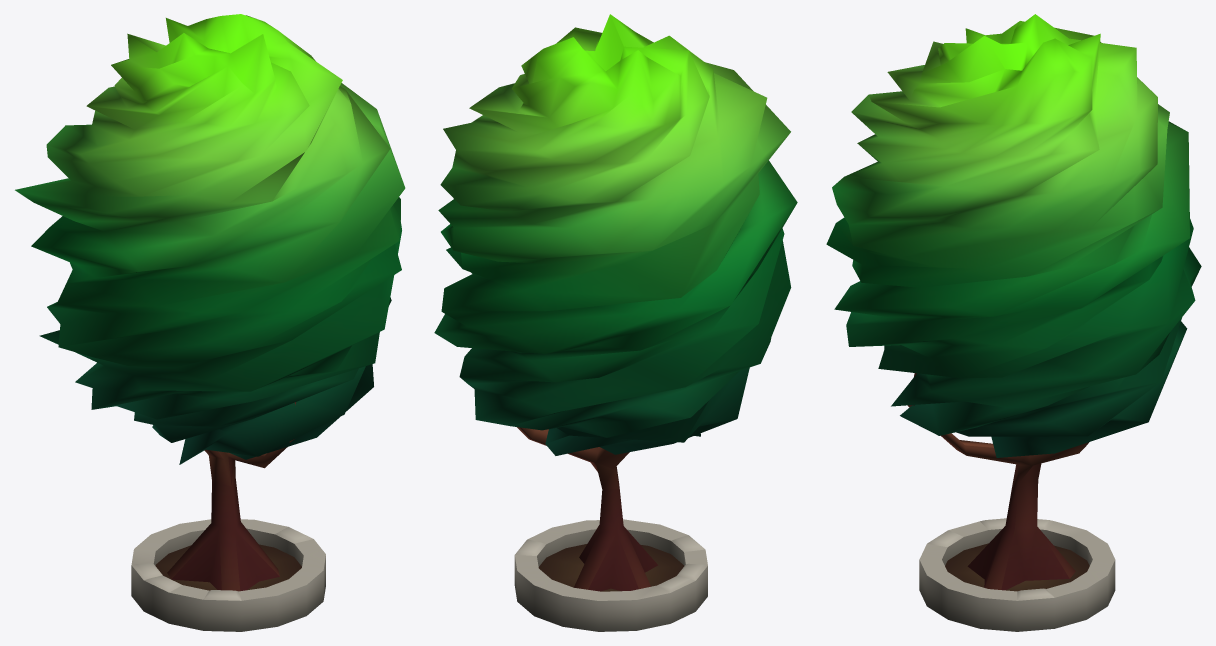
The model's file is Tree_1J.fbx.
3 views of the same model, side by side, from view 1: azimuth 30°, elevation 25°; view 2: azimuth 150°, elevation 25°; view 3: azimuth 270°, elevation 25° (orthographic).
Visible parts, largest first — view 1: Tree_1J; view 2: Tree_1J; view 3: Tree_1J.
Boxes of the visible parts, bbox=[...] form: Tree_1J: bbox=[15, 14, 405, 631]; Tree_1J: bbox=[434, 14, 797, 631]; Tree_1J: bbox=[826, 14, 1201, 631].
Size of the model in its own units: 7.49 by 12.7 by 7.66.
